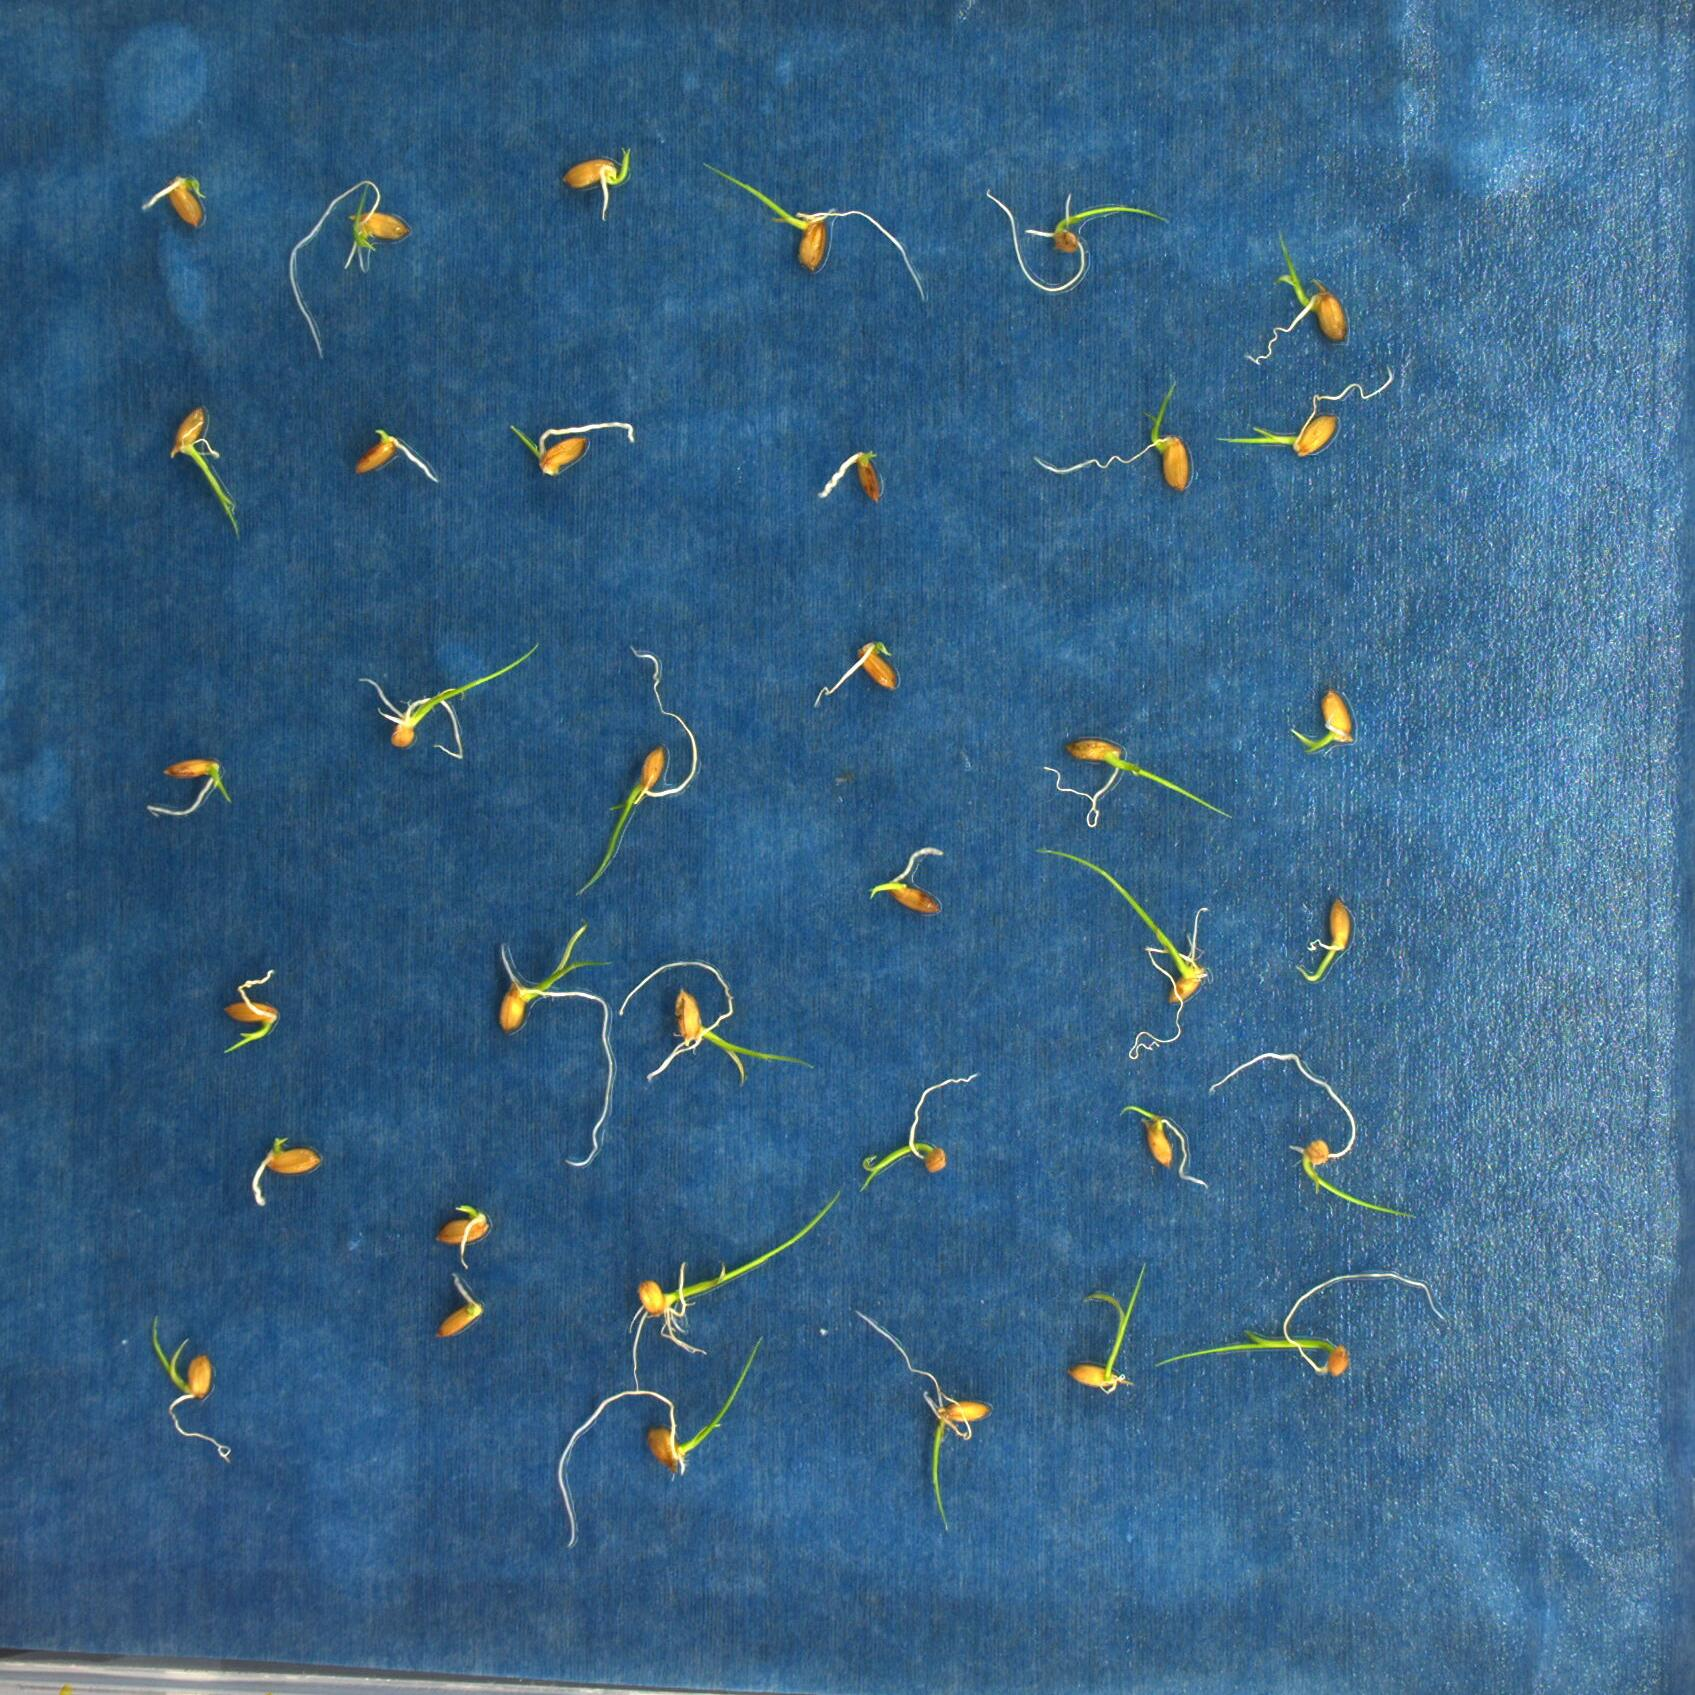not sprout: (809, 640, 900, 708), (251, 1132, 324, 1203), (355, 425, 441, 483), (428, 1273, 484, 1340), (816, 453, 885, 501), (433, 1205, 484, 1268)
sprout: (629, 1187, 840, 1392), (559, 1336, 764, 1548), (1035, 851, 1208, 1062), (1212, 1048, 1417, 1220), (702, 165, 928, 304), (574, 644, 697, 900), (852, 1309, 992, 1532), (1155, 1270, 1444, 1375), (497, 924, 612, 1167), (622, 961, 816, 1090), (284, 171, 408, 360), (359, 640, 540, 761), (981, 186, 1173, 292), (1032, 371, 1194, 497), (1040, 736, 1236, 827), (1209, 366, 1395, 455), (855, 1077, 981, 1192), (1248, 230, 1344, 362), (147, 1316, 233, 1464), (1059, 1260, 1146, 1395), (168, 405, 239, 540), (1113, 1104, 1212, 1195), (508, 424, 635, 477), (868, 847, 947, 920), (1291, 899, 1354, 989), (559, 144, 632, 219), (220, 969, 279, 1055), (144, 759, 228, 816), (137, 172, 206, 228), (1291, 695, 1355, 754)
